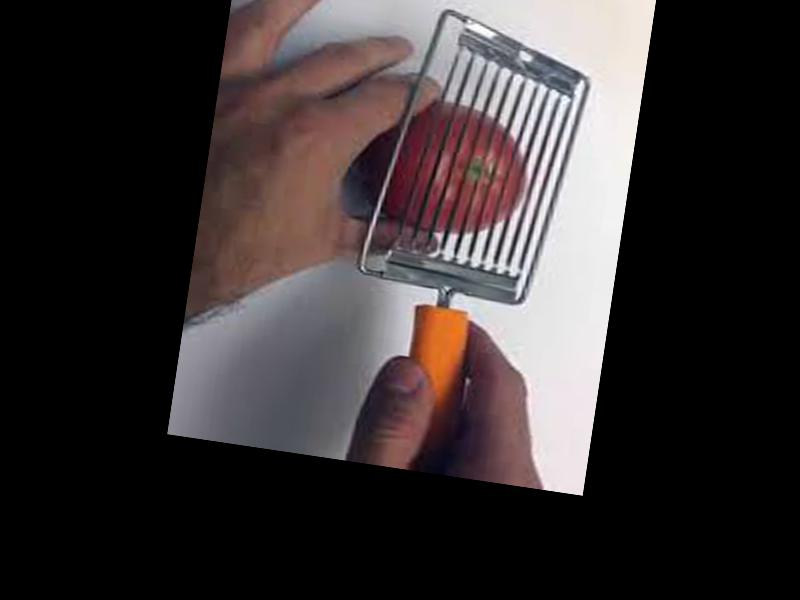Tomato: (357, 95, 534, 246)
